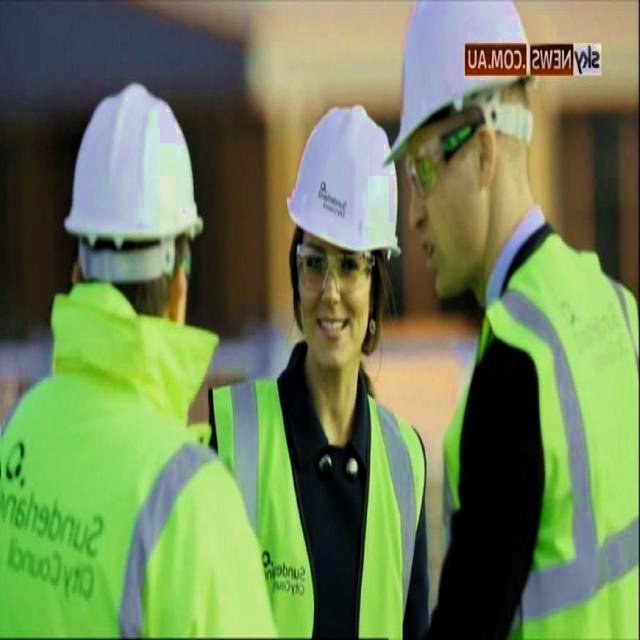Con_Casco: (280, 118, 391, 362)
Con_Chaleco: (221, 385, 422, 640)
